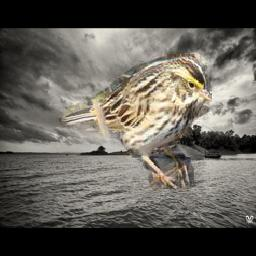Sparrow: (60, 55, 213, 190)
